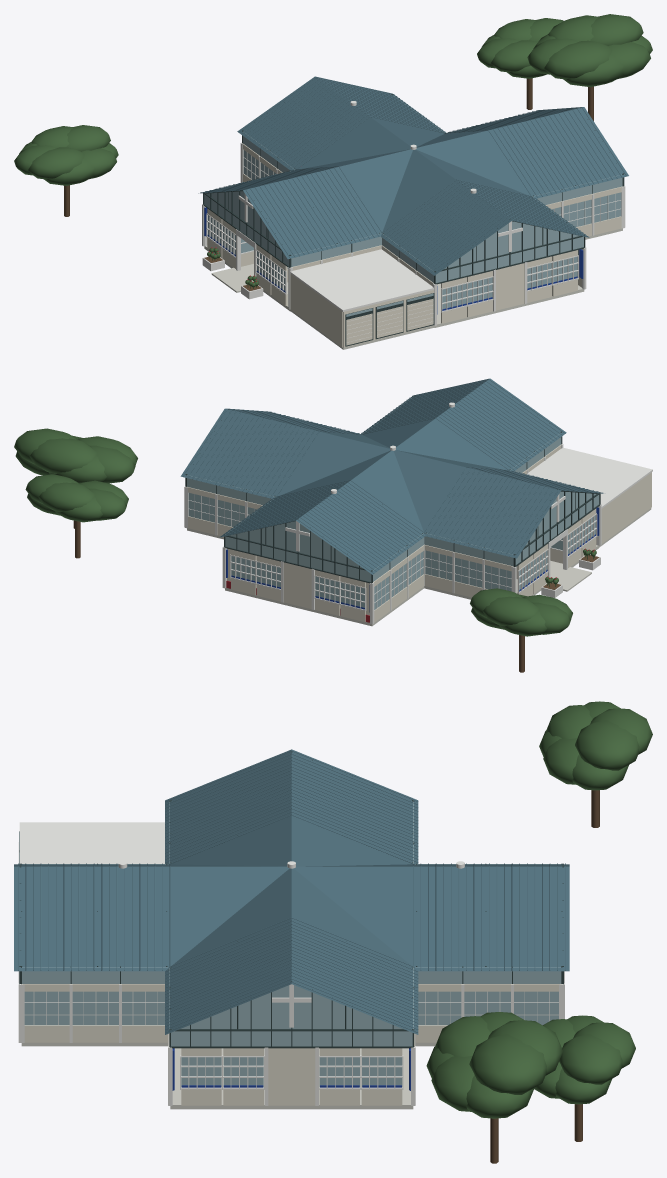
The model's file is berea-church-v5.glb.
The picture shows the model from 3 angles, top to bottom: view 1: azimuth 30°, elevation 25°; view 2: azimuth 150°, elevation 25°; view 3: azimuth 270°, elevation 25°; orthographic projection. The views are drawn at different scales.
Visible parts, largest first — view 1: Ceiling_roof, Surroundings_green, Windows_window, ChurchExterior_wall, CaretakerKitchen_trim, CaretakerKitchen_wall, Windows_trim, Windows_beam, ChurchExterior_trim, MainAisle_floor, CaretakerKitchen_beam, Surroundings_wood (+3 smaller); view 2: Ceiling_roof, Windows_window, Surroundings_green, ChurchExterior_wall, Windows_trim, CaretakerKitchen_trim, Windows_beam, CaretakerKitchen_wall, ChurchExterior_trim, MainAisle_floor, ChurchEntrance_floor, Ceiling_beam (+2 smaller); view 3: Ceiling_roof, Windows_window, Surroundings_green, ChurchExterior_wall, CaretakerKitchen_trim, Windows_trim, MainAisle_floor, Windows_beam, ChurchExterior_trim, Surroundings_wood.
Part boxes in pixels (left/top/right/bottom): Ceiling_roof: left=198, top=76, right=628, bottom=275; Surroundings_green: left=14, top=14, right=652, bottom=185; Windows_window: left=204, top=96, right=622, bottom=309; ChurchExterior_wall: left=207, top=143, right=623, bottom=323; CaretakerKitchen_trim: left=290, top=249, right=434, bottom=342; CaretakerKitchen_wall: left=290, top=274, right=434, bottom=347; Windows_trim: left=204, top=143, right=624, bottom=312; Windows_beam: left=203, top=78, right=624, bottom=284; ChurchExterior_trim: left=202, top=142, right=625, bottom=325; MainAisle_floor: left=204, top=228, right=622, bottom=327; CaretakerKitchen_beam: left=345, top=293, right=434, bottom=346; Surroundings_wood: left=64, top=78, right=593, bottom=216; Ceiling_roof: left=180, top=378, right=603, bottom=574; Windows_window: left=187, top=398, right=599, bottom=609; Surroundings_green: left=14, top=428, right=572, bottom=636; ChurchExterior_wall: left=186, top=444, right=596, bottom=622; Windows_trim: left=185, top=444, right=599, bottom=623; CaretakerKitchen_trim: left=526, top=447, right=652, bottom=508; Windows_beam: left=185, top=380, right=600, bottom=583; CaretakerKitchen_wall: left=601, top=472, right=651, bottom=543; ChurchExterior_trim: left=184, top=443, right=601, bottom=624; MainAisle_floor: left=187, top=528, right=599, bottom=626; ChurchEntrance_floor: left=552, top=567, right=591, bottom=591; Ceiling_beam: left=186, top=396, right=599, bottom=582; Ceiling_roof: left=14, top=749, right=569, bottom=1034; Windows_window: left=22, top=801, right=561, bottom=1086; Surroundings_green: left=426, top=701, right=652, bottom=1118; ChurchExterior_wall: left=21, top=984, right=561, bottom=1105; CaretakerKitchen_trim: left=18, top=822, right=164, bottom=863; Windows_trim: left=20, top=971, right=564, bottom=1105; MainAisle_floor: left=21, top=1042, right=436, bottom=1109; Windows_beam: left=19, top=751, right=563, bottom=1048; ChurchExterior_trim: left=18, top=971, right=564, bottom=1105; Surroundings_wood: left=490, top=790, right=599, bottom=1163.
Bounding box in the file's own units: 57.53 × 9.04 × 37.84.
